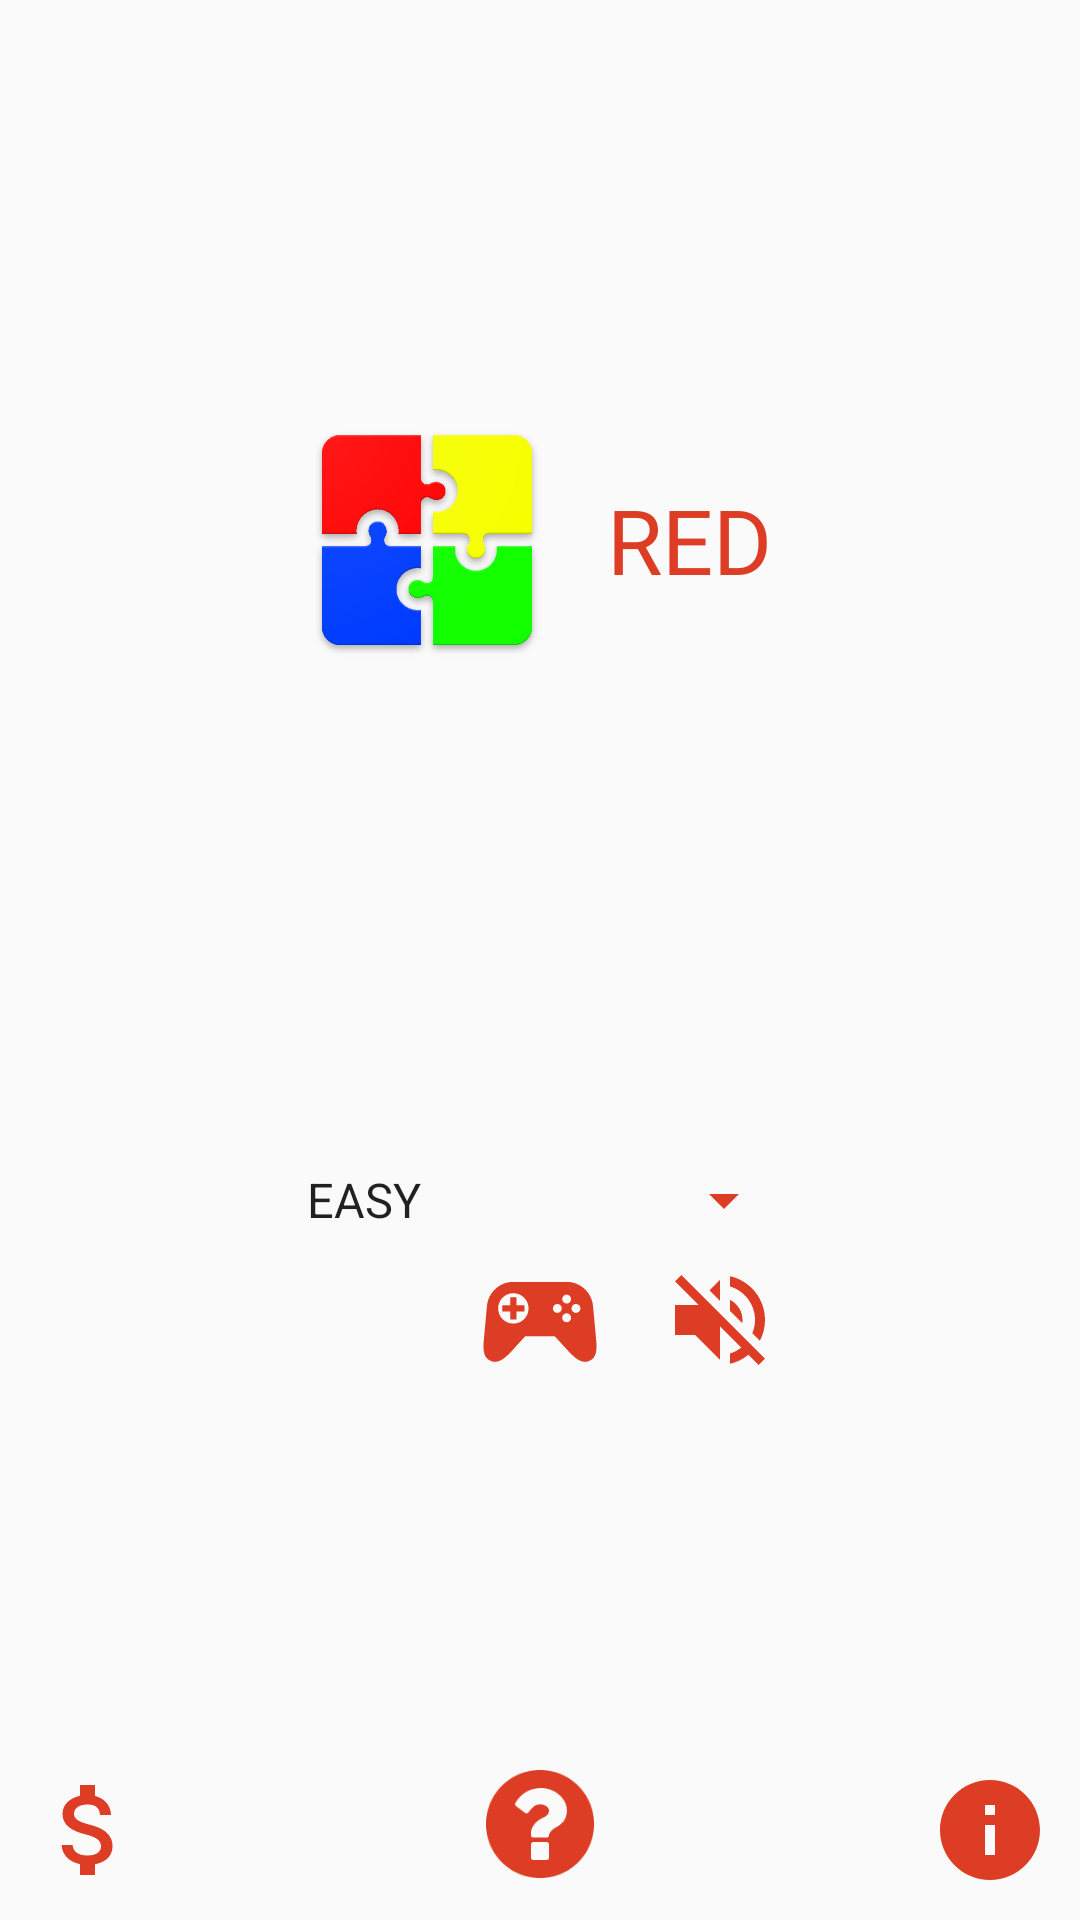

Icons on this 1080w x 1920h Android screen, each with the point to tap as [x,y]:
attach money: [87,1830]
games controller: [540,1322]
info: [990,1830]
volume off: [720,1320]
